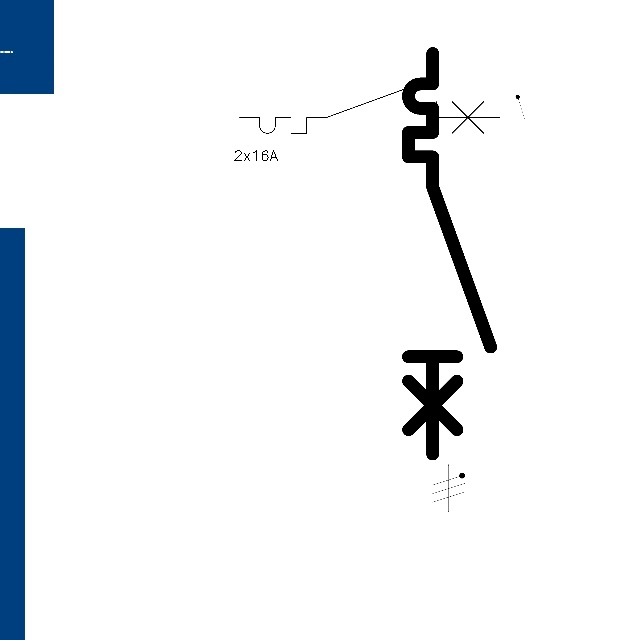interruptor_termomagnetico: (398, 43, 501, 464), (233, 73, 506, 140)
